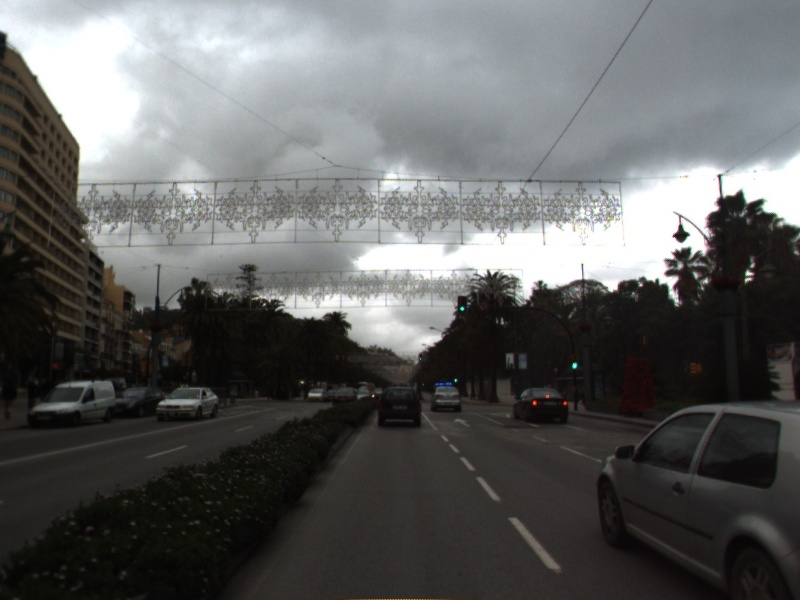STRAIGHT: (451, 416, 473, 429)
